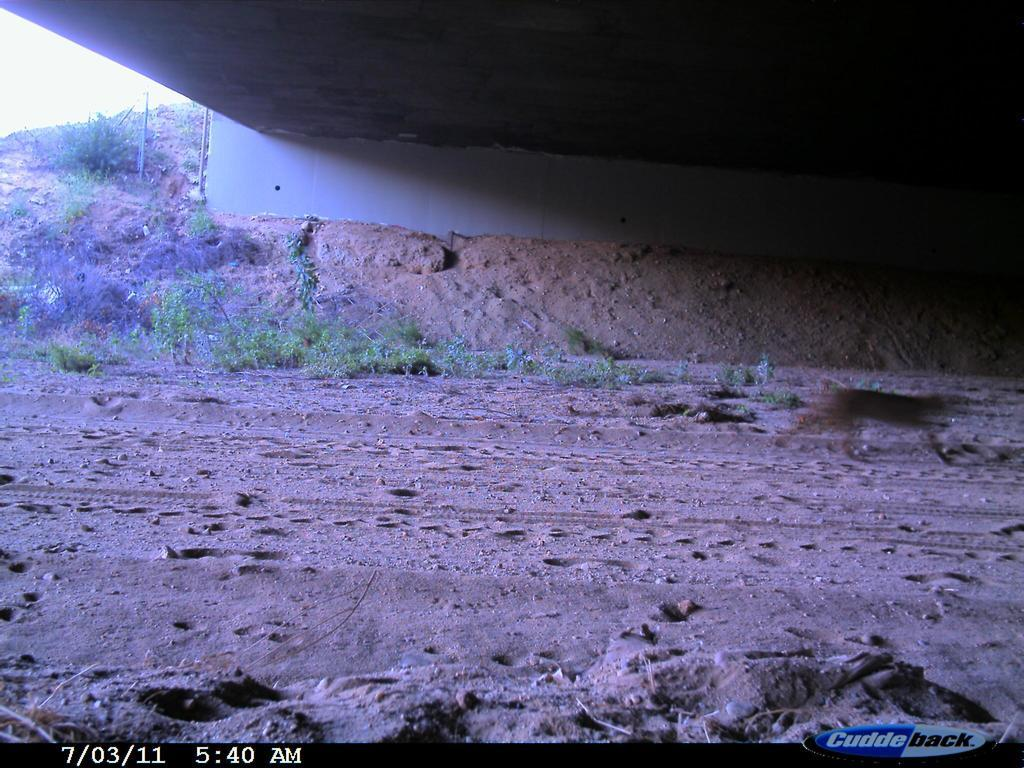bobcat: (775, 379, 981, 488)
